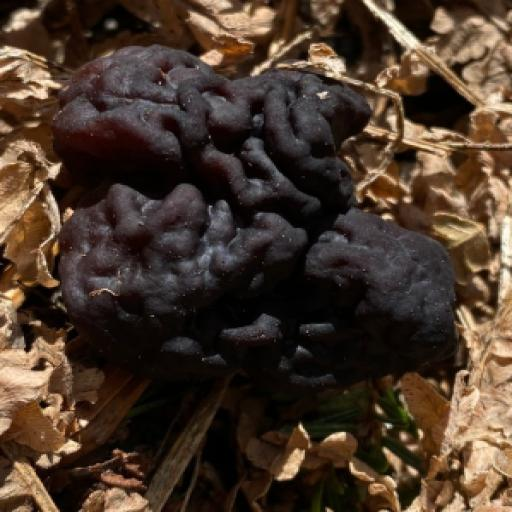False Morel: (53, 63, 467, 379)
